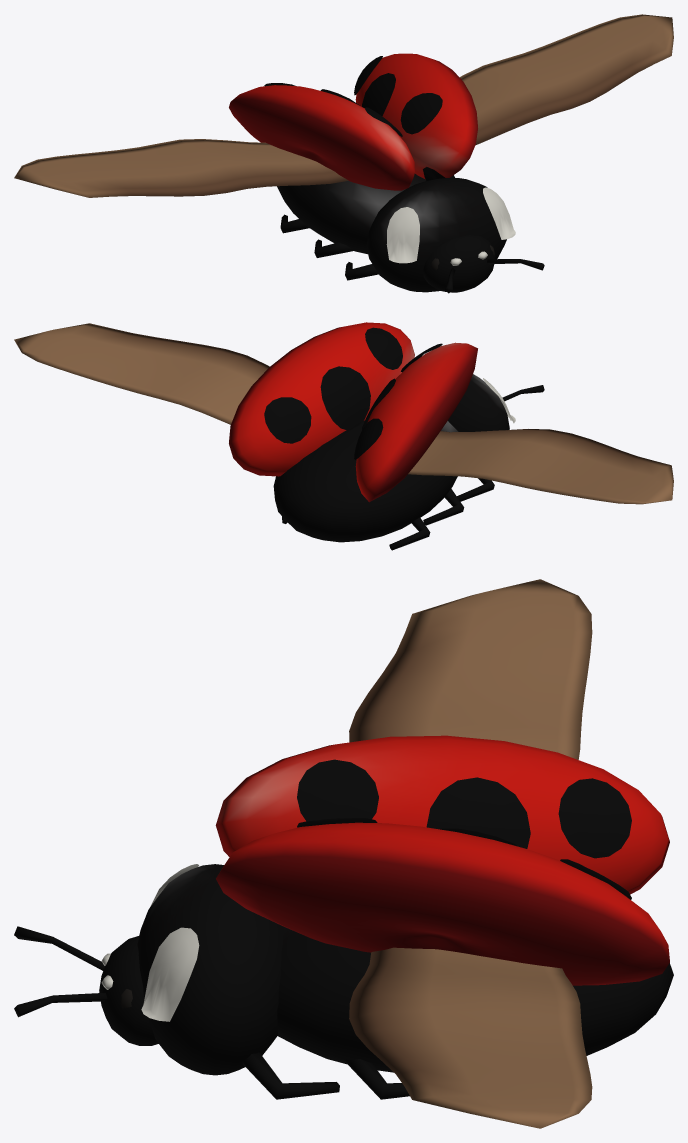
Rendered from SevenSpotLadybirdFlight.fbx.
3 renders of one model, top to bottom at view 1: azimuth 30°, elevation 25°; view 2: azimuth 150°, elevation 25°; view 3: azimuth 270°, elevation 25°, orthographic. The views are drawn at different scales.
Parts seen in each view (by area): view 1: SevenSpotLadybirdFlight; view 2: SevenSpotLadybirdFlight; view 3: SevenSpotLadybirdFlight.
Boxes of the visible parts, x1,y1,x2,y2 form: SevenSpotLadybirdFlight: (14,14,673,293); SevenSpotLadybirdFlight: (14,322,673,550); SevenSpotLadybirdFlight: (14,579,673,1128).
Size of the model in its own units: 1.12 by 0.2574 by 0.5683.
